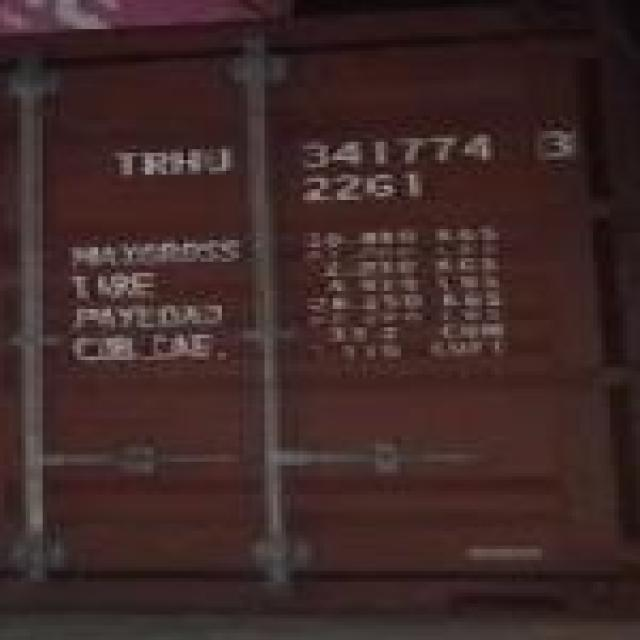ISO: (291, 173, 438, 201)
container_number: (97, 136, 576, 174)
